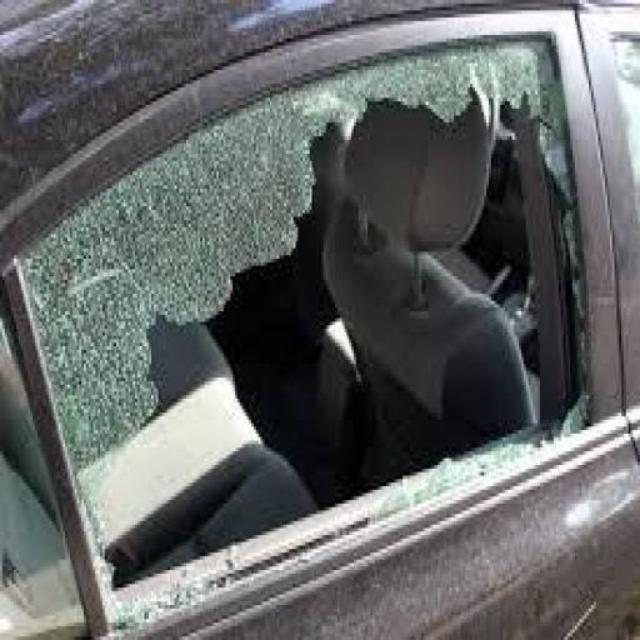glass shatter: (11, 30, 601, 632)
